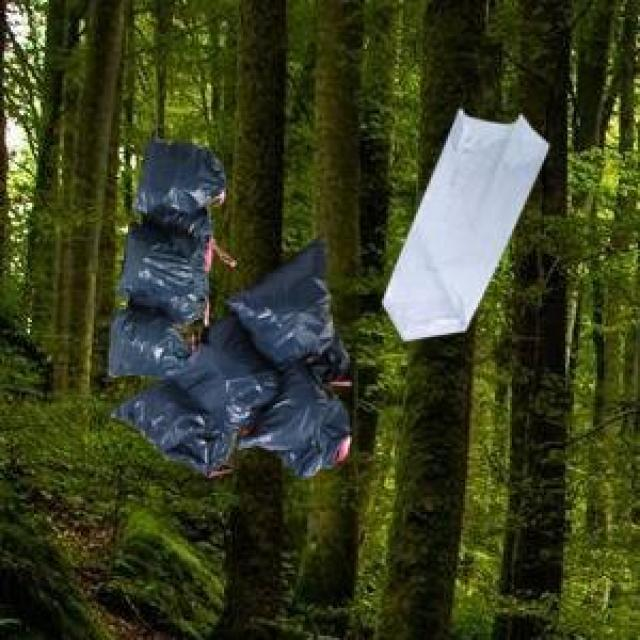miscellaneous trash: (107, 230, 346, 474), (105, 124, 222, 373)
